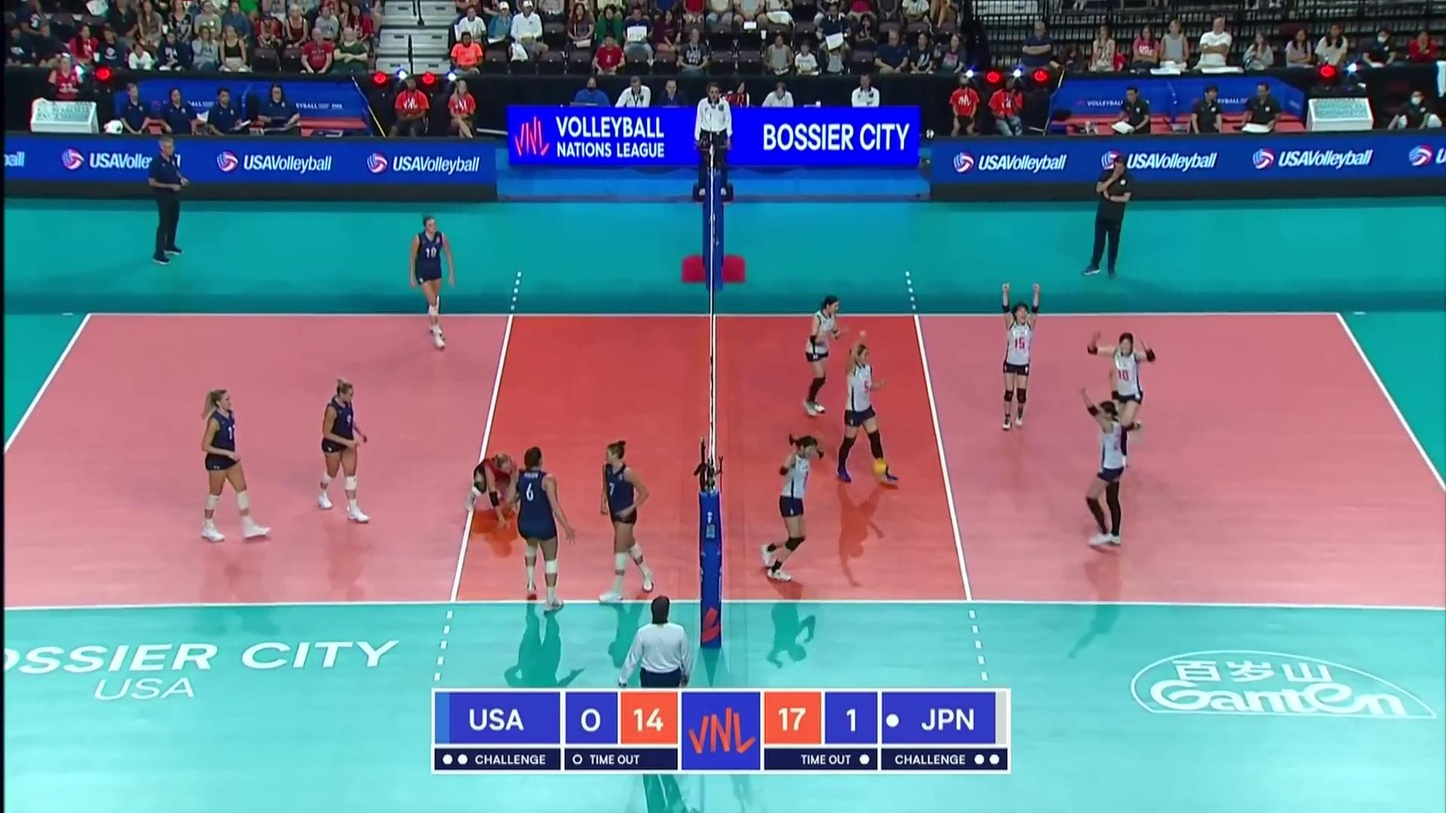player: (511, 447, 576, 611), (203, 390, 271, 542), (761, 436, 826, 585), (1089, 328, 1156, 471), (837, 337, 895, 487), (600, 442, 654, 603), (317, 381, 373, 521), (1081, 388, 1125, 549), (994, 284, 1042, 428), (410, 215, 457, 349), (804, 295, 845, 416), (465, 452, 522, 526)
refree: (617, 596, 691, 746), (696, 85, 731, 194)
